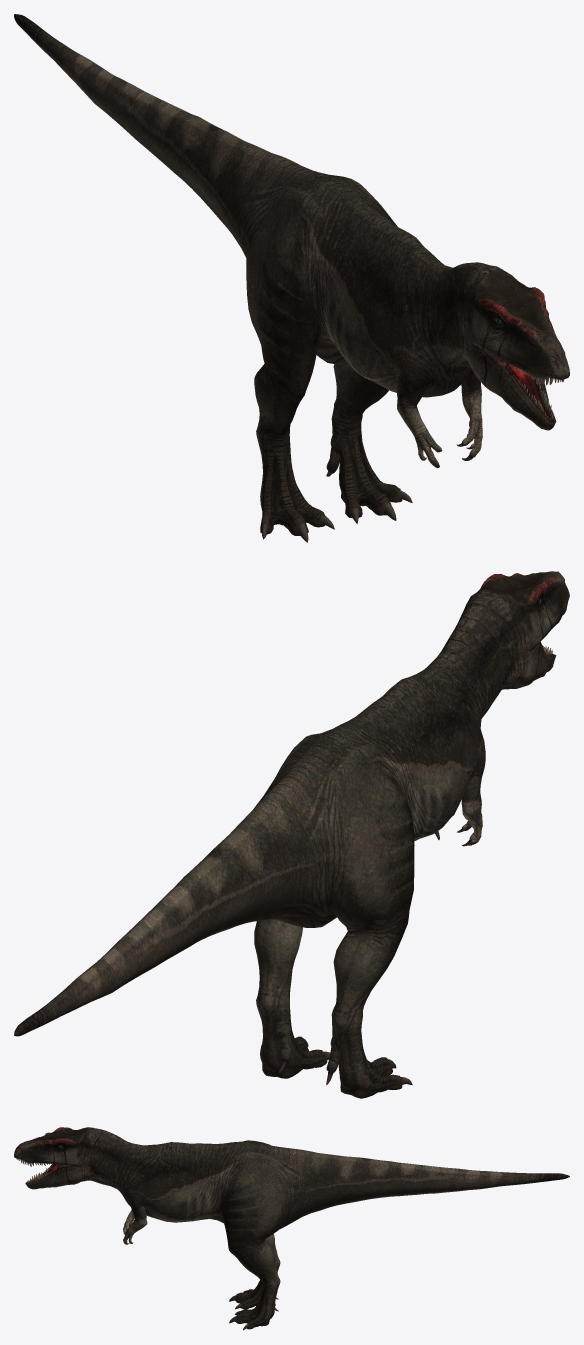
File: carcharodontosaurus.gltf
3 views of the same model, one above another, from view 1: azimuth 30°, elevation 25°; view 2: azimuth 150°, elevation 25°; view 3: azimuth 270°, elevation 25° (orthographic). The views are drawn at different scales.
Parts seen in each view (by area): view 1: Object_2; view 2: Object_2; view 3: Object_2.
Part boxes in pixels (x1=…): Object_2: x1=14, y1=14, x2=569, y2=542; Object_2: x1=14, y1=571, x2=569, y2=1098; Object_2: x1=14, y1=1127, x2=569, y2=1330.
Bounding box in the file's own units: 22.53 × 52.73 × 144.
1 material, 1 textured.
